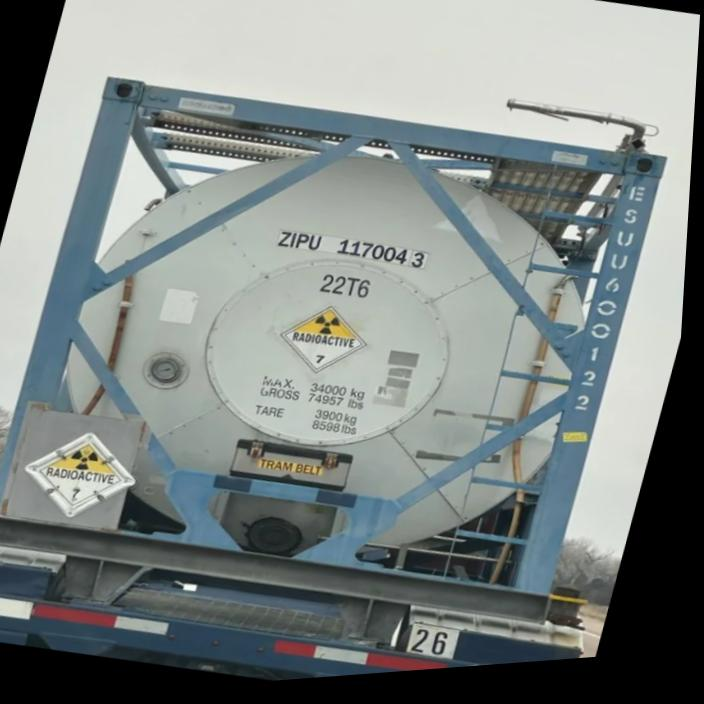doorway: (25, 433, 134, 517), (283, 308, 364, 371)
